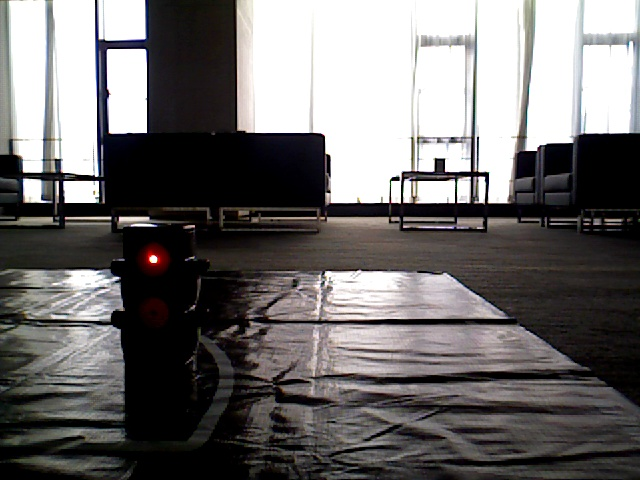red: (125, 226, 184, 367)
